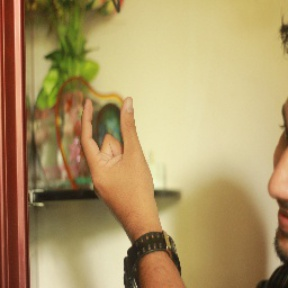U: (78, 90, 155, 213)
